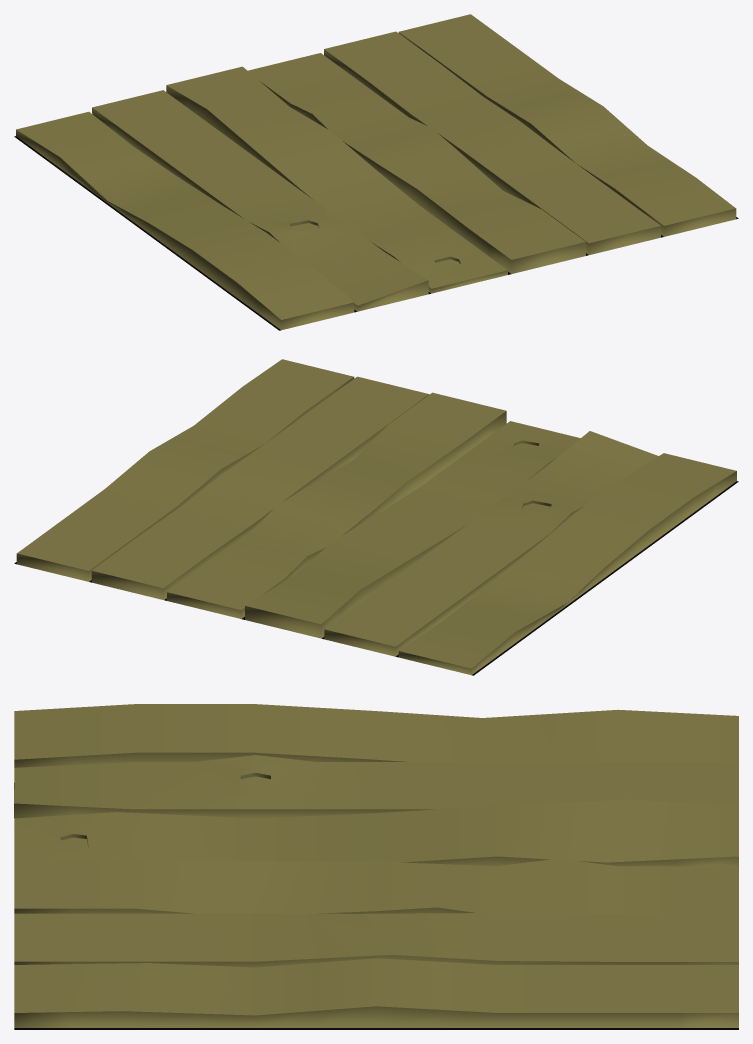
The model's file is floor.fbx.
The picture shows the model from 3 angles, top to bottom: view 1: azimuth 30°, elevation 25°; view 2: azimuth 150°, elevation 25°; view 3: azimuth 270°, elevation 25°; orthographic projection. The views are drawn at different scales.
Visible parts, largest first — view 1: Plane; view 2: Plane; view 3: Plane.
Part boxes in pixels (x1=…): Plane: x1=14, y1=14, x2=738, y2=330; Plane: x1=14, y1=359, x2=738, y2=675; Plane: x1=14, y1=704, x2=738, y2=1029.
Size of the model in its own units: 200 by 7.99 by 200.
